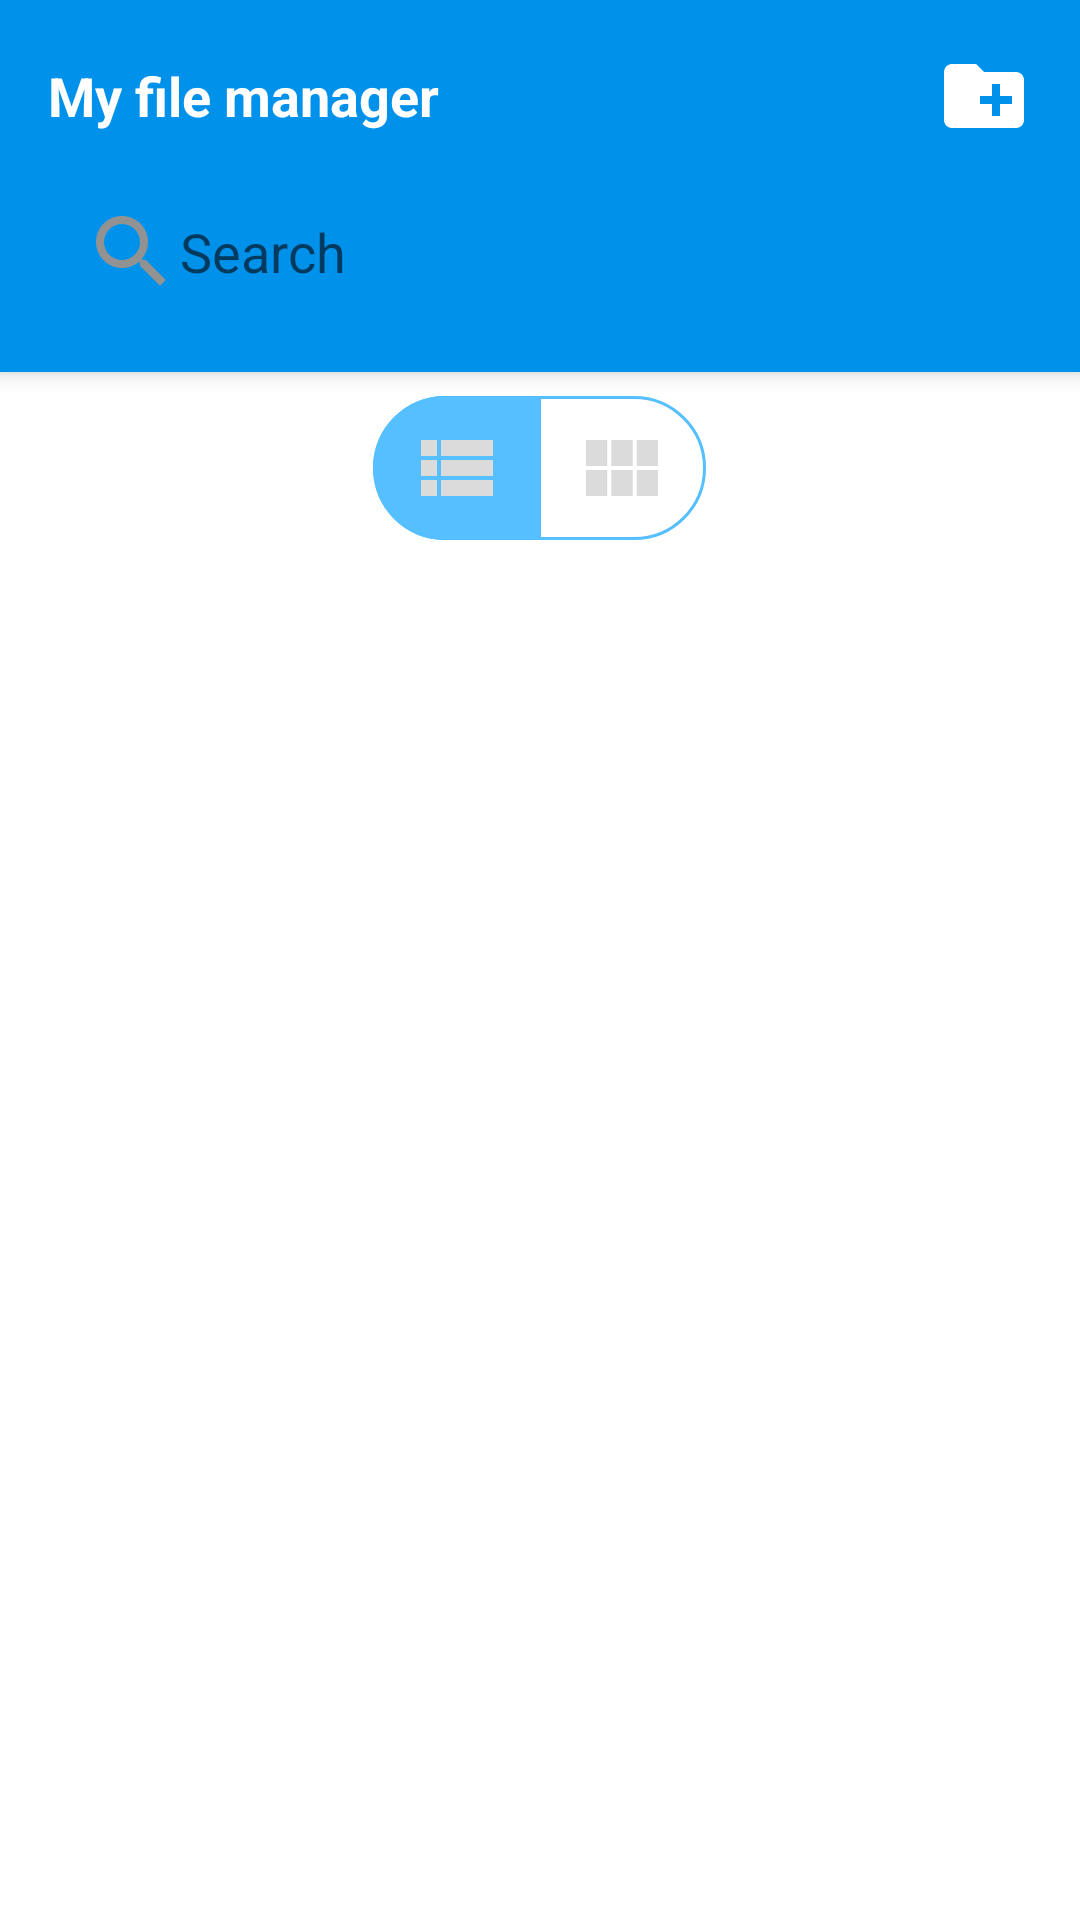

Where to tap for icons on this 1080x1920 app screen, as (x,y):
create folder: (984,96)
view list: (457,468)
view module: (622,468)
